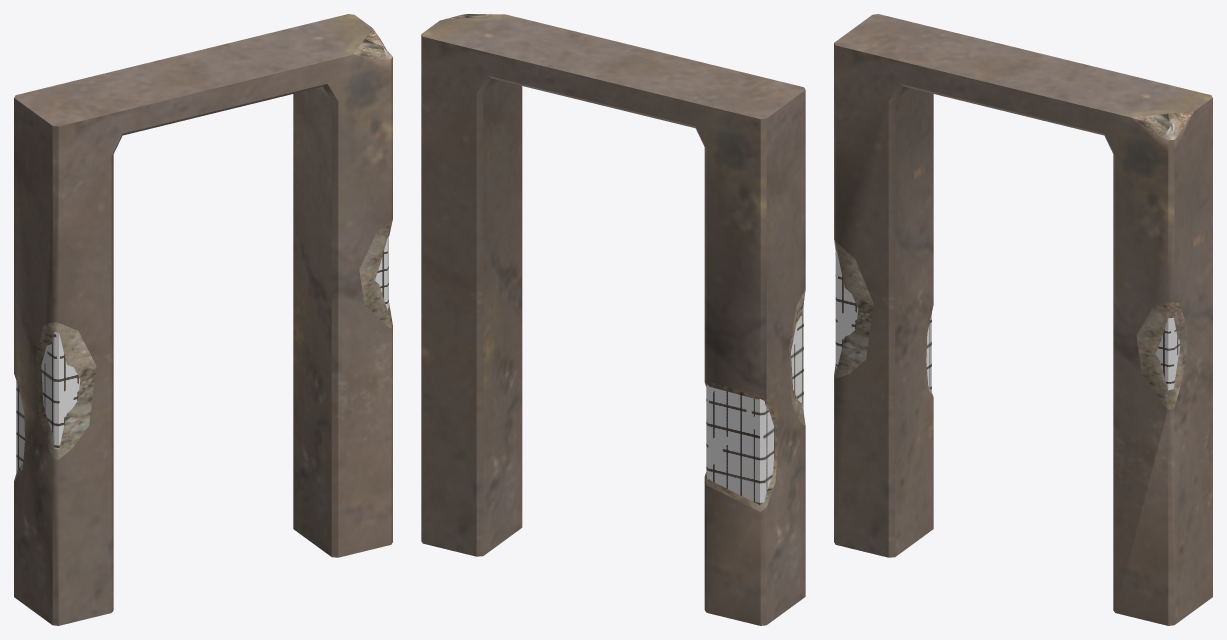
Rendered from ghiway_2b.fbx.
3 renders of one model, left to right at view 1: azimuth 30°, elevation 25°; view 2: azimuth 150°, elevation 25°; view 3: azimuth 330°, elevation 25°, orthographic.
Visible parts, largest first — view 1: ghiway_2b; view 2: ghiway_2b; view 3: ghiway_2b.
Boxes of the visible parts, <box> form: ghiway_2b: <box>14,14,392,625</box>; ghiway_2b: <box>421,14,805,625</box>; ghiway_2b: <box>834,14,1212,625</box>.
Bounding box in the file's own units: 1327 × 1860 × 290.
Materials: 3 (3 with a texture image).
